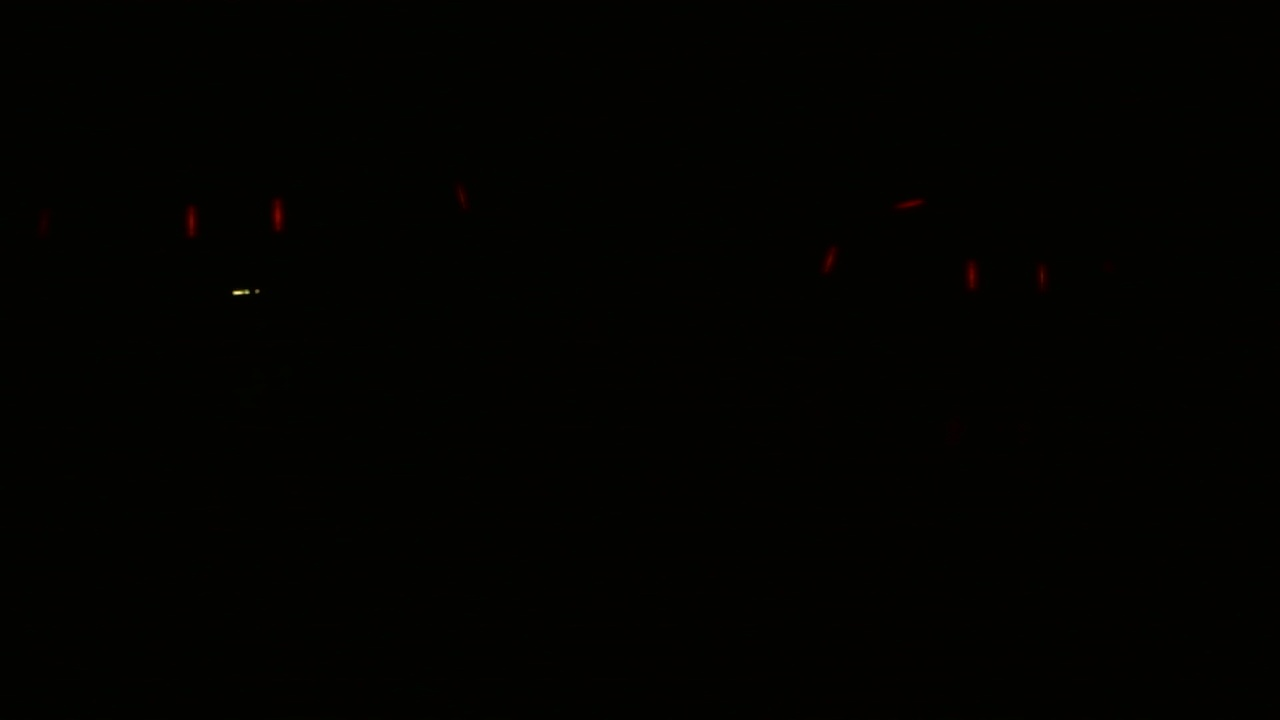pair1: (178, 200, 288, 235), (960, 260, 1051, 291)
